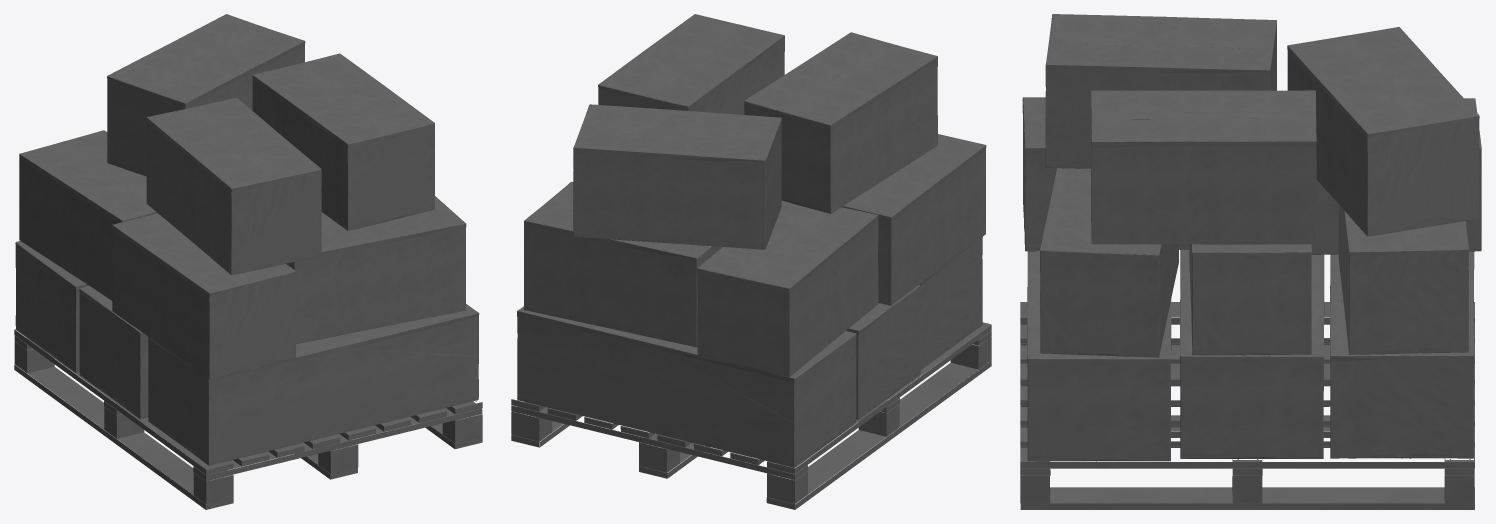
File: pallet_composition_a13.glb
The picture shows the model from 3 angles, left to right: view 1: azimuth 30°, elevation 25°; view 2: azimuth 150°, elevation 25°; view 3: azimuth 270°, elevation 25°; orthographic projection. The views are drawn at different scales.
Visible parts, largest first — view 1: geometry_0; view 2: geometry_0; view 3: geometry_0.
Part boxes in pixels (bbox=[...]): geometry_0: bbox=[14, 14, 482, 509]; geometry_0: bbox=[511, 14, 991, 509]; geometry_0: bbox=[1020, 14, 1481, 509].
Bounding box in the file's own units: 0.3449 × 0.3601 × 0.42.
1 material, 1 textured.
